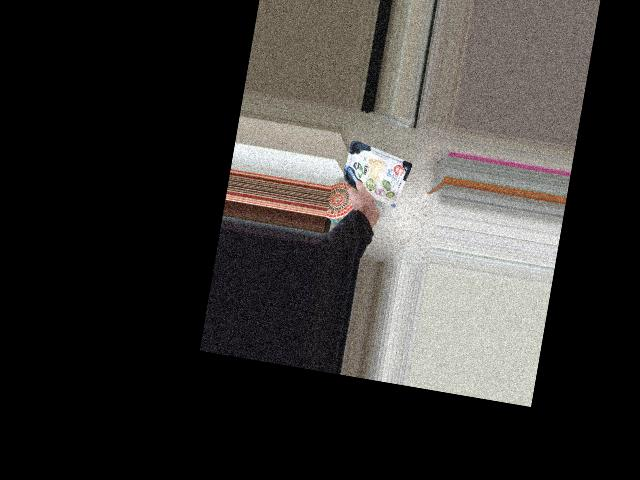cheese: (336, 144, 414, 203)
